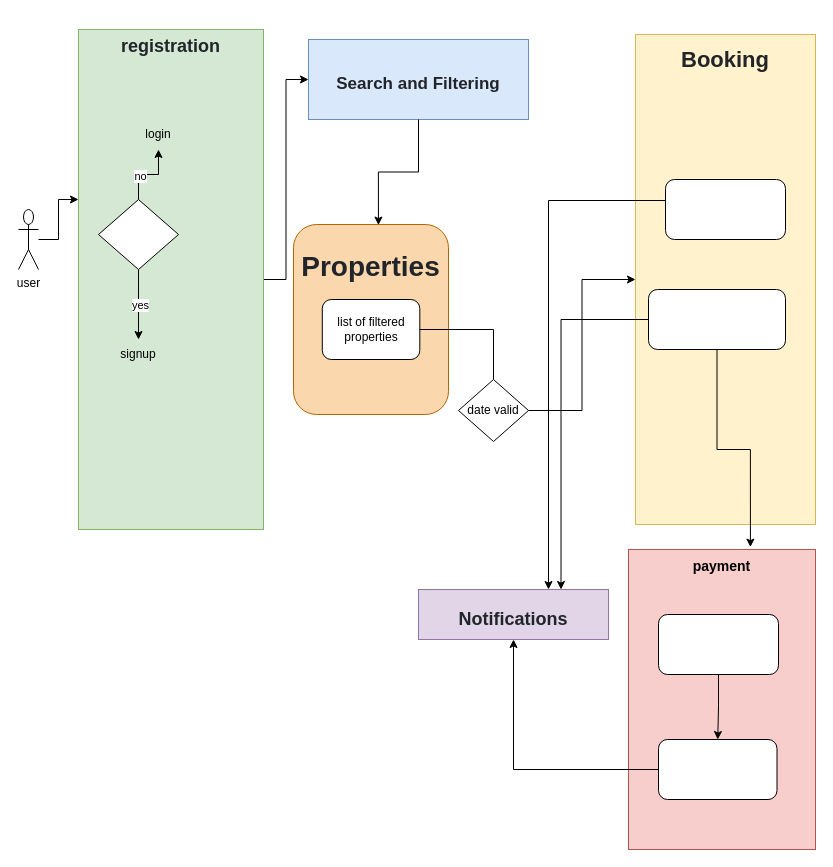
This 833x867 diagram has some shape labels left out. The centre of each missing label's shape, as x and y in pixels:
Cancellation: the point at 725,209
completed: the point at 717,769
Creation: the point at 717,319
new: the point at 138,234
PayPal (gateway): the point at 718,644
